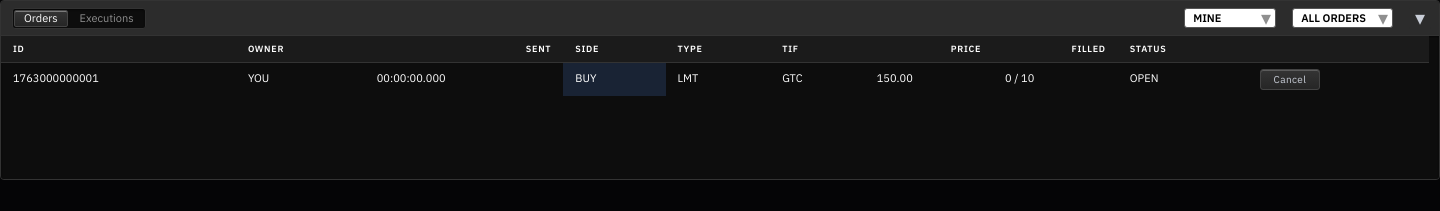
OpenOrders owner filter and Owner column › ALL PARTICIPANTS adds the bots' orders with their owner and no cancel
Click the button with test id "blotter-owner-filter-trigger": [1230, 18] box [1184, 8, 1276, 28]
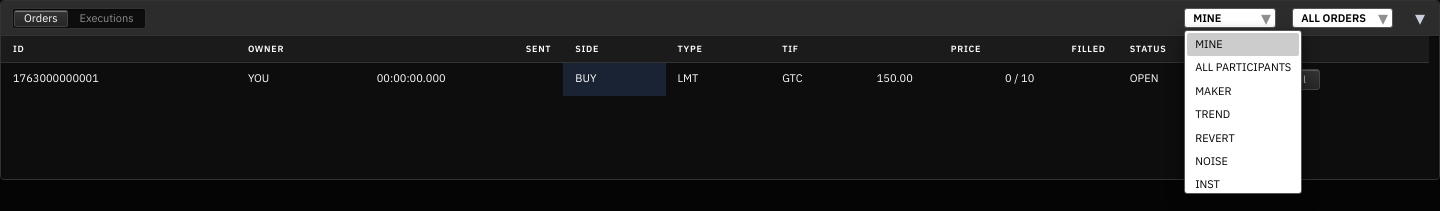
Press the mouse on the option "ALL PARTICIPANTS": [1243, 67] box [1195, 60, 1291, 74]
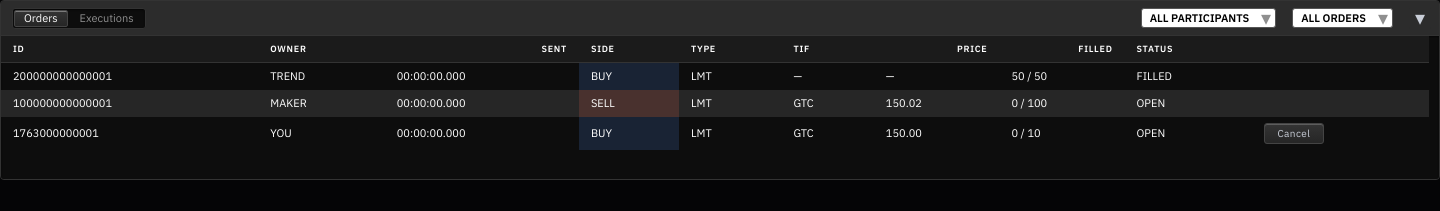
expect the number of rows with test id "open-orders-row" is 3: met, box [1, 63, 1429, 90]; [1, 90, 1429, 117]; [1, 117, 1429, 150]
